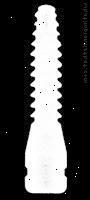NucleOSS: (24, 4, 67, 193)
